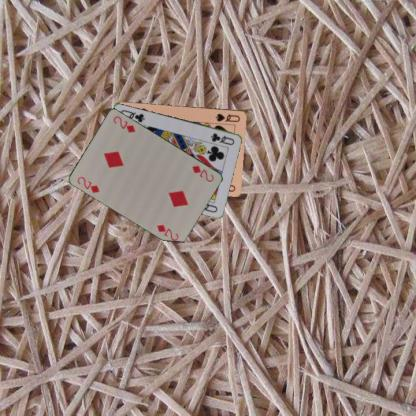2d: (190, 163, 216, 183), (75, 174, 101, 194)
Qc: (208, 130, 236, 146)
Qs: (213, 110, 241, 123)
